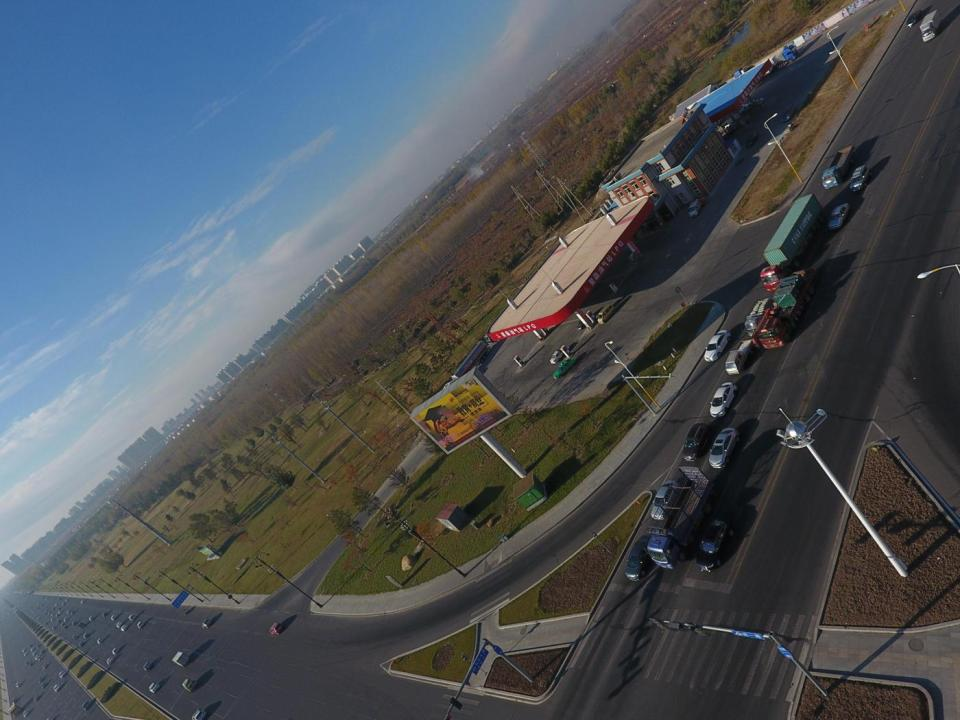car: (695, 514, 734, 570), (626, 534, 656, 582), (708, 428, 740, 468), (682, 422, 711, 461), (652, 482, 680, 521), (710, 382, 738, 419), (704, 330, 731, 361), (829, 202, 852, 232), (553, 356, 575, 380), (852, 165, 872, 190), (550, 346, 569, 364), (907, 8, 921, 29), (576, 314, 592, 332), (746, 97, 766, 111), (744, 132, 760, 148), (732, 102, 749, 117), (269, 621, 285, 636), (190, 707, 206, 720), (148, 682, 161, 693), (142, 661, 154, 671), (201, 619, 214, 628), (82, 700, 90, 711), (136, 620, 145, 628), (112, 647, 120, 655), (106, 658, 114, 665), (54, 684, 61, 692), (121, 624, 128, 631), (116, 621, 123, 628), (97, 637, 104, 644), (59, 671, 66, 678), (37, 676, 45, 682), (83, 632, 89, 639), (40, 682, 46, 689), (15, 682, 22, 688), (33, 654, 40, 660), (79, 640, 84, 648), (111, 614, 117, 620), (102, 611, 108, 617), (88, 615, 94, 621), (34, 694, 40, 700), (23, 710, 29, 716), (12, 698, 18, 704), (72, 634, 77, 640), (72, 620, 77, 626), (63, 616, 68, 622), (40, 648, 45, 654), (63, 624, 68, 629), (24, 660, 29, 665), (30, 646, 35, 651), (23, 651, 28, 656), (37, 656, 43, 660), (80, 599, 84, 604), (70, 610, 74, 615), (66, 609, 70, 614), (60, 622, 65, 626), (57, 620, 62, 624), (36, 616, 41, 620), (42, 664, 47, 668), (36, 644, 41, 648), (21, 647, 26, 651), (56, 607, 62, 610), (52, 626, 56, 630), (51, 612, 55, 616), (62, 602, 66, 606), (44, 612, 48, 616), (44, 608, 48, 612), (52, 607, 56, 611), (58, 596, 62, 600), (29, 662, 33, 666), (33, 652, 37, 656), (58, 610, 63, 613), (29, 643, 32, 648), (56, 614, 60, 617), (54, 603, 58, 606), (45, 597, 49, 600), (40, 595, 44, 598), (36, 606, 39, 610), (32, 610, 35, 613), (30, 609, 33, 612), (51, 618, 55, 620), (66, 598, 68, 602), (40, 603, 44, 605), (30, 606, 32, 610), (44, 622, 47, 624), (48, 612, 51, 614), (37, 603, 40, 605)
truck: (648, 466, 714, 570), (759, 193, 824, 291), (752, 266, 816, 350), (442, 342, 490, 393), (484, 295, 521, 345), (821, 145, 858, 191), (755, 45, 799, 80), (745, 298, 779, 336), (734, 55, 778, 84), (725, 338, 758, 375), (920, 9, 942, 42), (688, 197, 705, 217), (171, 652, 191, 666), (8, 702, 22, 717), (182, 679, 198, 692), (78, 620, 86, 628)
van: (597, 304, 616, 324), (781, 103, 797, 123), (128, 613, 137, 621)
